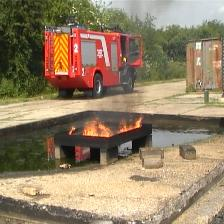fire: (66, 109, 144, 137)
